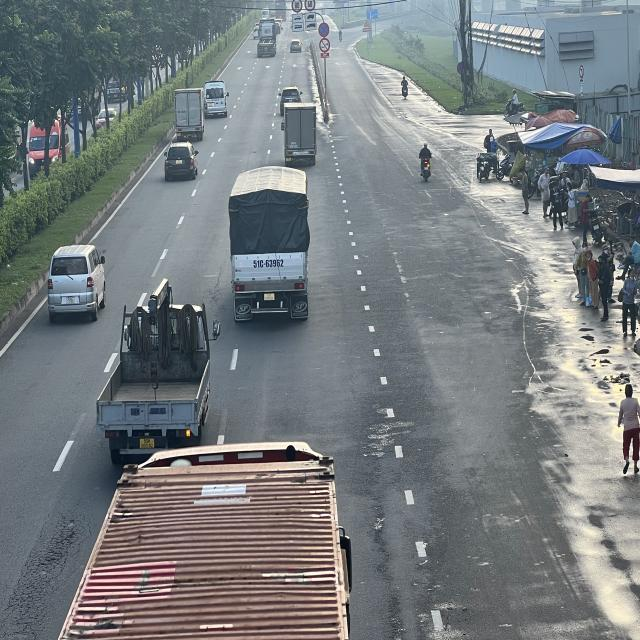car: (46, 244, 106, 320), (164, 141, 199, 179)
container: (29, 441, 343, 640), (258, 18, 277, 56)
truck: (96, 288, 216, 498), (230, 166, 313, 322), (279, 104, 318, 166), (173, 86, 204, 138)
van: (203, 80, 229, 120)
